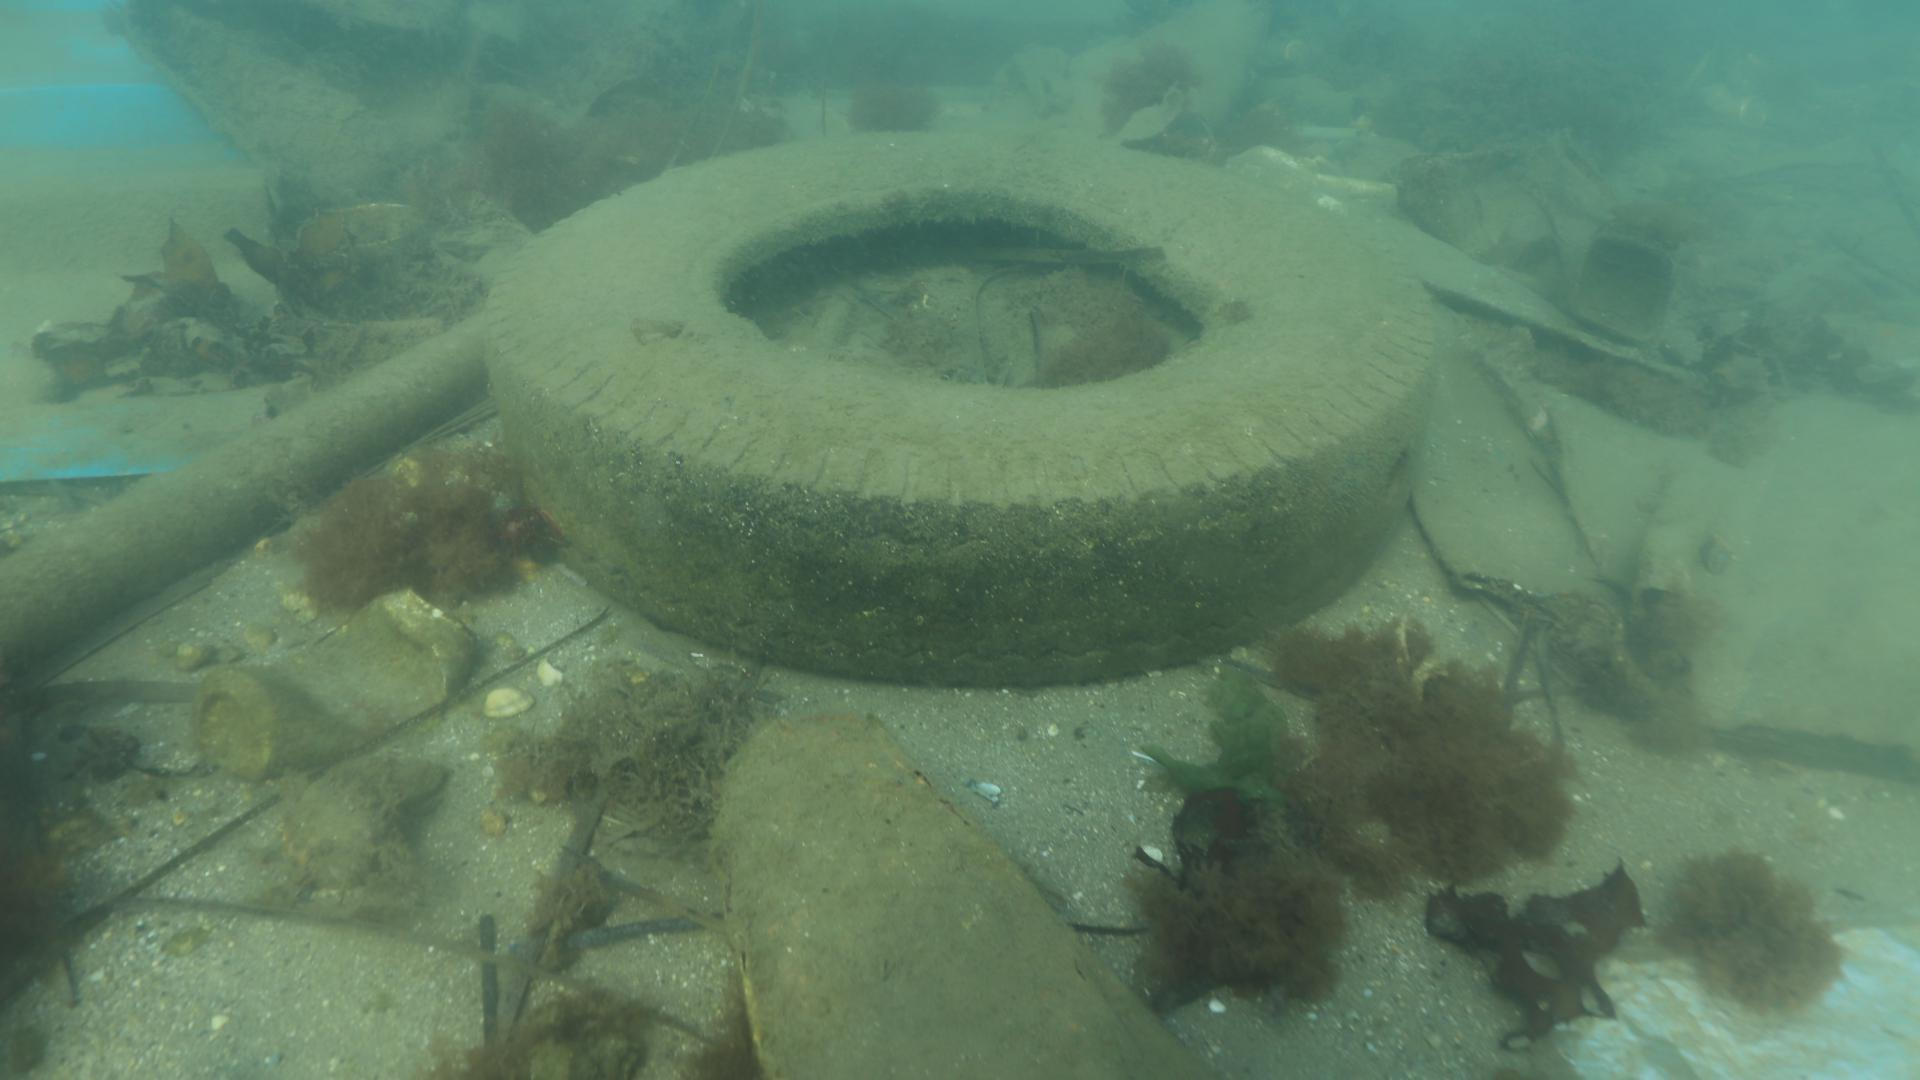tire: (483, 127, 1437, 688)
wood: (704, 704, 1215, 1080)
